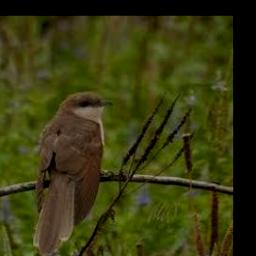Cuckoo: (33, 91, 114, 256)
